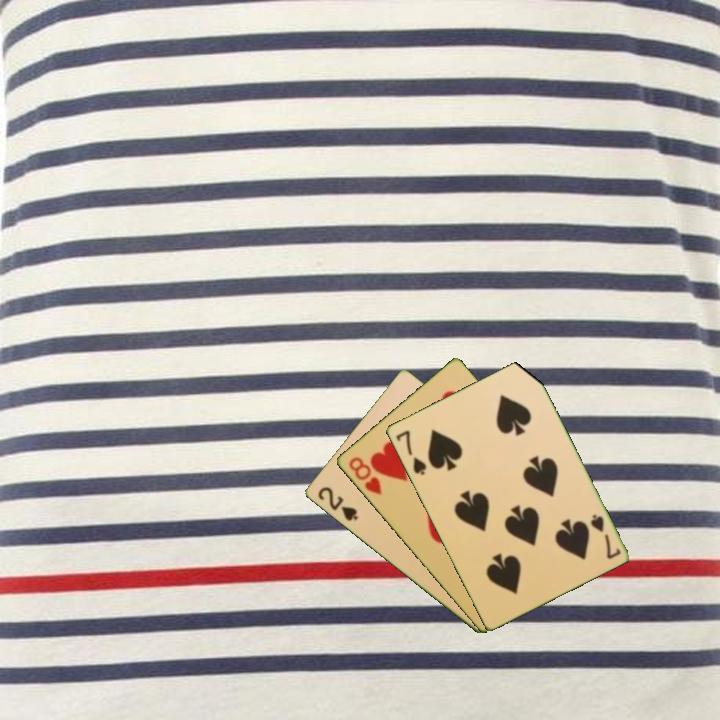2s: (314, 483, 360, 524)
7s: (392, 426, 429, 478), (586, 510, 623, 562)
8h: (345, 453, 384, 498)
